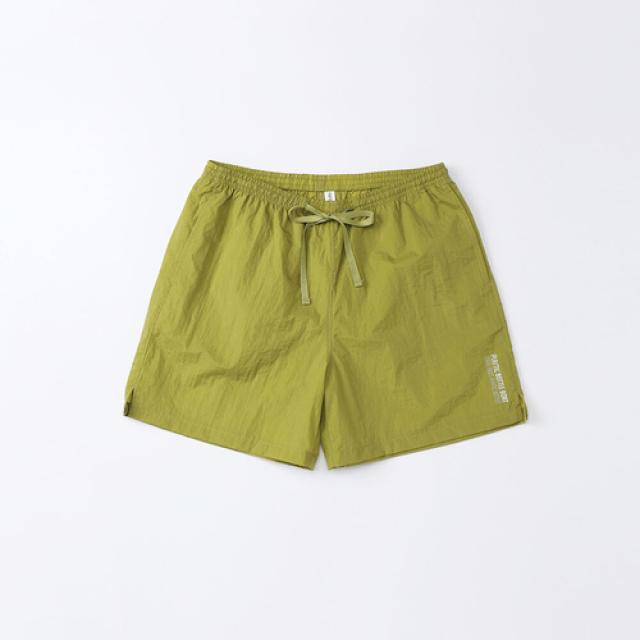dress: (110, 157, 526, 430)
